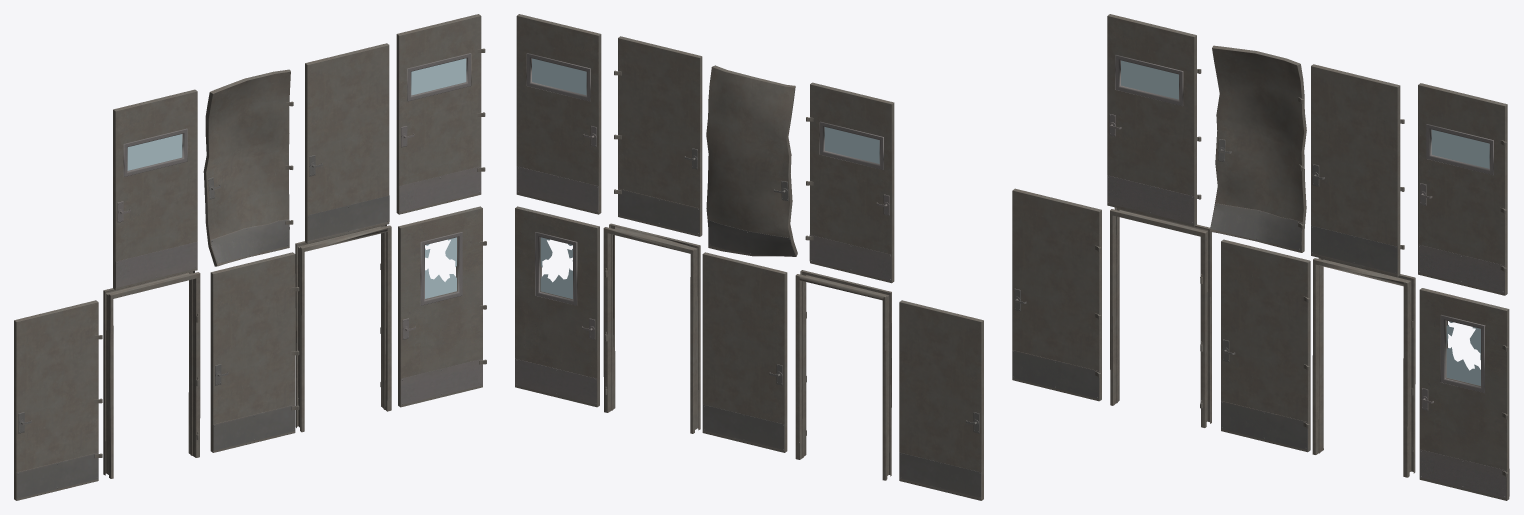
The model's file is poppy_playitme_4_warden_door.glb.
The picture shows the model from 3 angles, left to right: view 1: azimuth 30°, elevation 25°; view 2: azimuth 150°, elevation 25°; view 3: azimuth 330°, elevation 25°; orthographic projection. The views are drawn at different scales.
Parts seen in each view (by area): view 1: SM_WardenDoorPose1_B.mo, SM_WardenDoor_A.mo, SM_WardenDoor_B.mo, SM_WardenDoor_E.mo, SM_WardenDoor_D.mo, SM_WardenDoorPose2_B.mo, SM_WardenDoor_F.mo, SM_WardenDoorFrame_A.mo, SM_WardenDoorFrame_D.mo; view 2: SM_WardenDoorPose1_B.mo, SM_WardenDoor_A.mo, SM_WardenDoor_D.mo, SM_WardenDoor_E.mo, SM_WardenDoor_B.mo, SM_WardenDoorPose2_B.mo, SM_WardenDoor_F.mo, SM_WardenDoorFrame_D.mo, SM_WardenDoorFrame_A.mo; view 3: SM_WardenDoor_D.mo, SM_WardenDoor_E.mo, SM_WardenDoorPose1_B.mo, SM_WardenDoor_B.mo, SM_WardenDoor_A.mo, SM_WardenDoorPose2_B.mo, SM_WardenDoor_F.mo, SM_WardenDoorFrame_D.mo, SM_WardenDoorFrame_A.mo.
Boxes of the visible parts, <box> form: SM_WardenDoorPose1_B.mo: <box>210,252,299,452</box>; SM_WardenDoor_A.mo: <box>396,14,485,214</box>; SM_WardenDoor_B.mo: <box>14,300,102,500</box>; SM_WardenDoor_E.mo: <box>305,43,389,243</box>; SM_WardenDoor_D.mo: <box>113,89,197,290</box>; SM_WardenDoorPose2_B.mo: <box>203,69,293,266</box>; SM_WardenDoor_F.mo: <box>398,206,486,407</box>; SM_WardenDoorFrame_A.mo: <box>103,271,200,478</box>; SM_WardenDoorFrame_D.mo: <box>295,224,391,432</box>; SM_WardenDoorPose1_B.mo: <box>702,252,787,452</box>; SM_WardenDoor_A.mo: <box>516,14,601,214</box>; SM_WardenDoor_D.mo: <box>805,82,894,283</box>; SM_WardenDoor_E.mo: <box>614,36,702,236</box>; SM_WardenDoor_B.mo: <box>899,300,983,500</box>; SM_WardenDoorPose2_B.mo: <box>706,65,797,256</box>; SM_WardenDoor_F.mo: <box>515,206,599,407</box>; SM_WardenDoorFrame_D.mo: <box>603,223,700,433</box>; SM_WardenDoorFrame_A.mo: <box>795,270,891,480</box>; SM_WardenDoor_D.mo: <box>1107,14,1201,226</box>; SM_WardenDoor_E.mo: <box>1311,64,1404,276</box>; SM_WardenDoorPose1_B.mo: <box>1221,239,1310,452</box>; SM_WardenDoor_B.mo: <box>1012,188,1101,401</box>; SM_WardenDoor_A.mo: <box>1418,83,1507,295</box>; SM_WardenDoorPose2_B.mo: <box>1209,45,1306,252</box>; SM_WardenDoor_F.mo: <box>1419,288,1509,500</box>; SM_WardenDoorFrame_D.mo: <box>1312,258,1415,477</box>; SM_WardenDoorFrame_A.mo: <box>1110,207,1211,427</box>.
Bounding box in the file's own units: 6.73 × 5.1 × 0.3899.
Materials: 5 (4 with a texture image).
